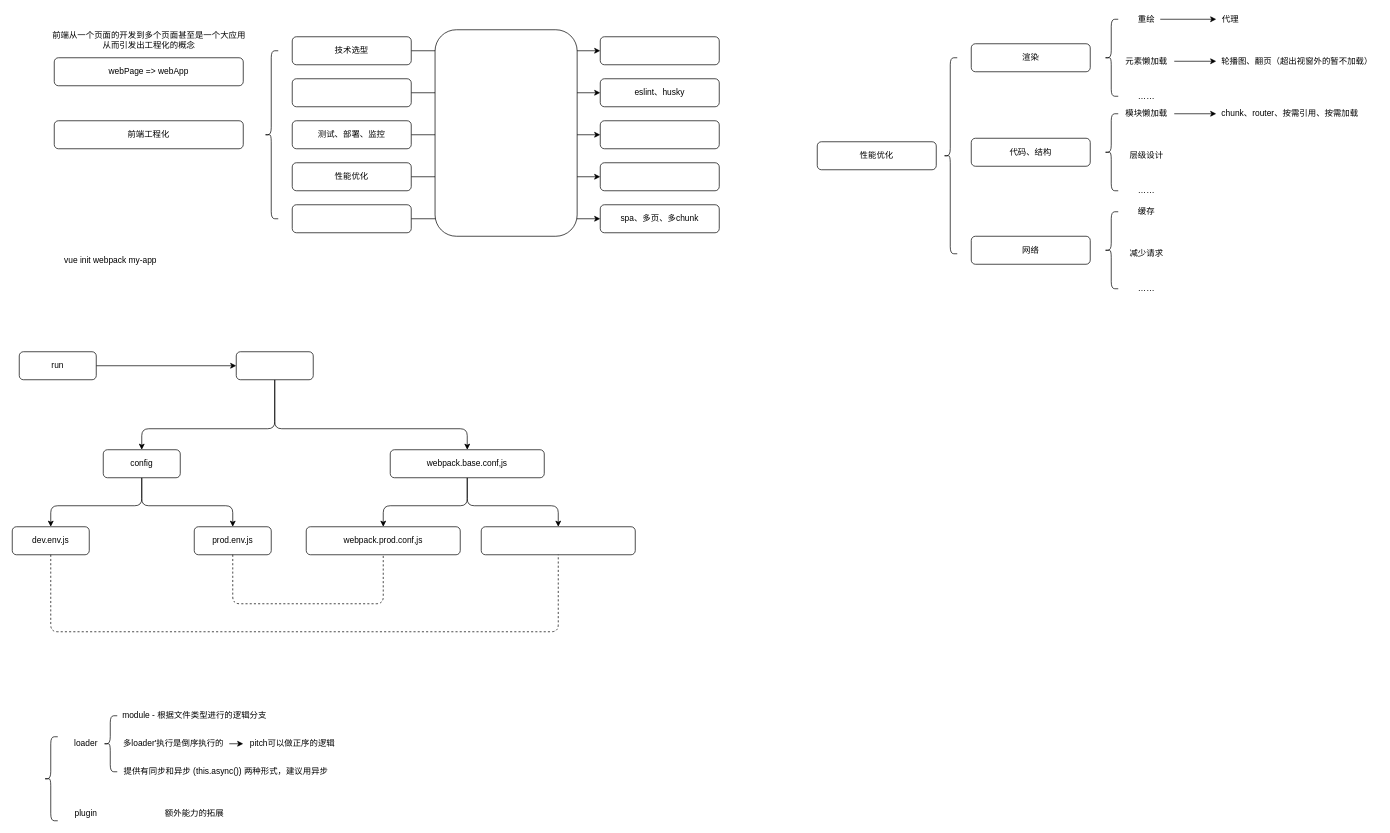
Image size: 1390x833. Some labels were removed from this diagram. Here are the shapes that lost their labels. From the top down, the box of each, then its label:
(600, 36, 719, 65): vue、react、element、antd
(292, 78, 411, 107): 统一规范
(434, 29, 577, 236): webpack 其他的举例： gulp、jade、pug、grunt
(600, 120, 719, 149): ut、e2e、mock
(600, 162, 719, 191): lazy、module
(292, 204, 411, 233): 模块化重构
(236, 351, 313, 380): check-version
(481, 526, 635, 555): webpack.dev.conf,js
